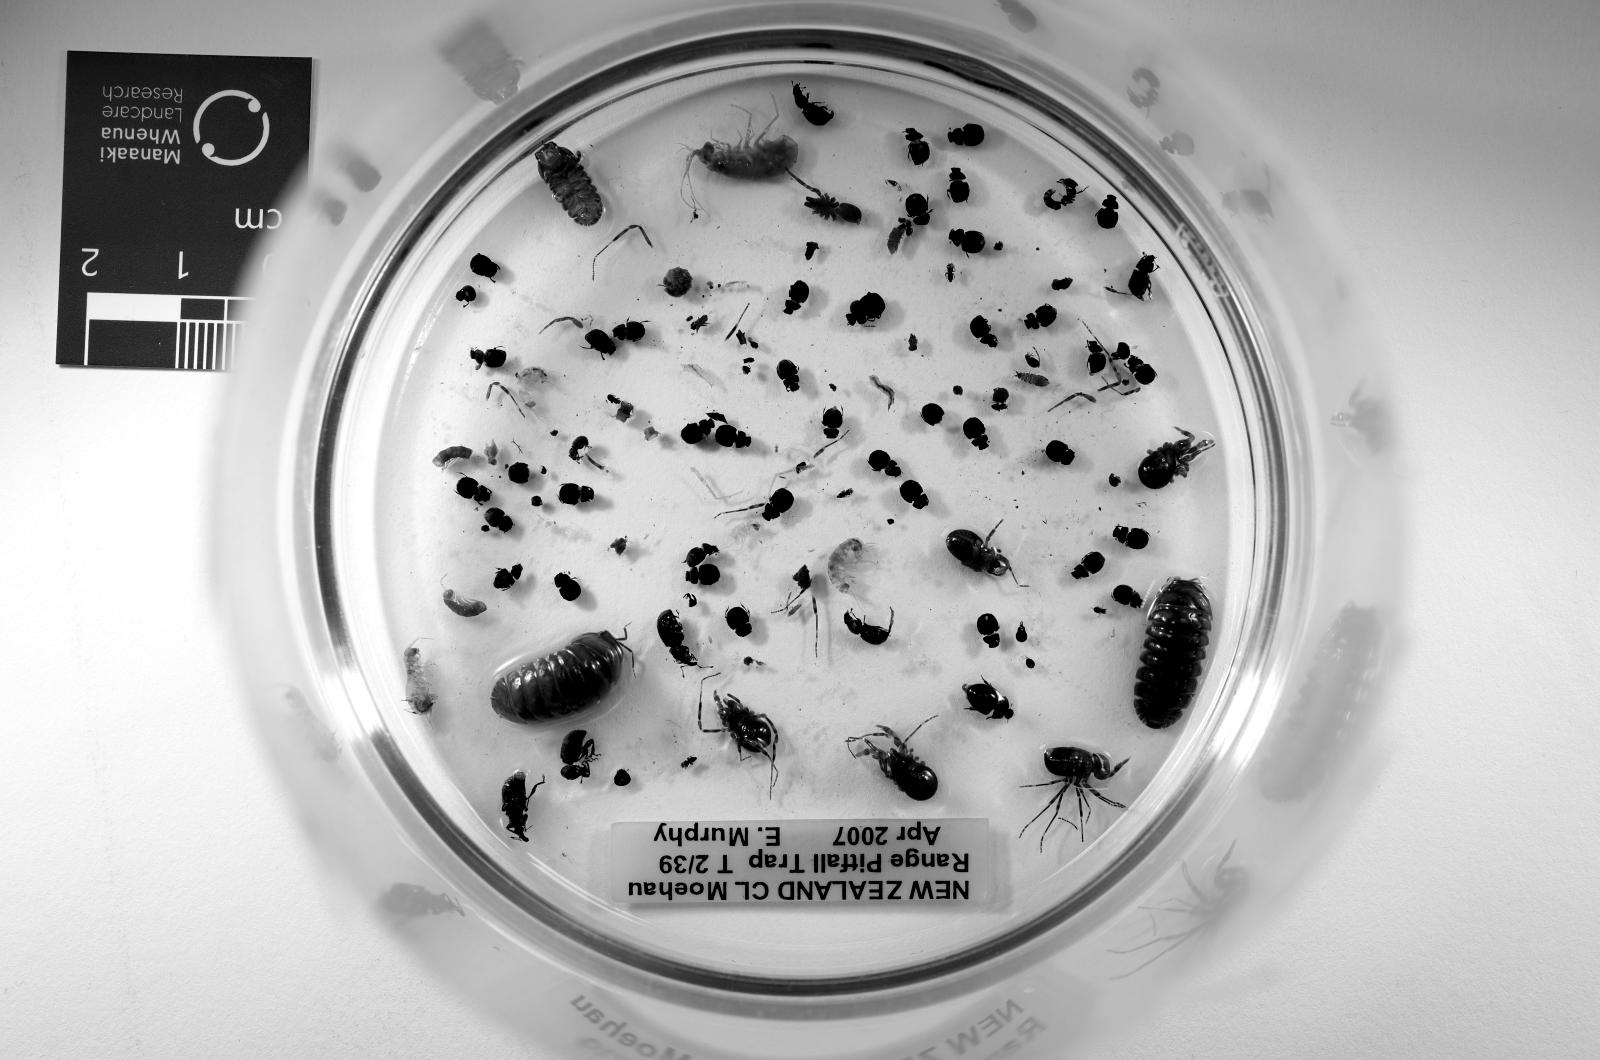acari: (1025, 351, 1041, 369)
amphipoda: (685, 109, 797, 189), (403, 642, 438, 715), (828, 537, 866, 593), (516, 367, 546, 409)
araneae: (793, 177, 862, 224)
coleoptera: (500, 770, 538, 841), (656, 608, 697, 667), (963, 680, 1012, 720), (843, 608, 894, 646), (559, 730, 597, 780), (793, 84, 835, 128), (847, 292, 885, 327), (1128, 254, 1157, 298), (456, 476, 491, 506), (903, 128, 931, 164), (974, 612, 1000, 649), (963, 416, 991, 451), (1071, 552, 1106, 581), (763, 487, 793, 518), (715, 422, 753, 447), (903, 193, 931, 227), (685, 562, 721, 587), (1113, 525, 1149, 550), (584, 329, 616, 357), (969, 317, 997, 348), (900, 478, 928, 509), (553, 571, 582, 602), (725, 606, 753, 636), (950, 230, 984, 254), (784, 279, 809, 314), (681, 419, 715, 444), (685, 543, 719, 568), (468, 348, 506, 369), (1128, 357, 1157, 386), (775, 360, 799, 392), (468, 254, 500, 279), (947, 124, 984, 146), (613, 319, 647, 342), (1025, 304, 1056, 329), (1044, 441, 1075, 466), (869, 451, 900, 476), (494, 565, 525, 590), (947, 168, 969, 202), (1097, 195, 1119, 230), (822, 407, 843, 441), (559, 485, 594, 506), (1113, 584, 1144, 608), (485, 506, 512, 531), (569, 435, 590, 463), (1088, 342, 1106, 373)
collembola: (1016, 373, 1047, 388)
diptera: (835, 487, 853, 500), (607, 394, 622, 403), (947, 264, 953, 283), (1094, 606, 1106, 615), (991, 403, 1006, 409)
formicidae: (1044, 177, 1081, 211)
isopoda: (491, 631, 628, 724), (1134, 577, 1212, 730), (535, 143, 603, 227), (662, 267, 694, 298)
opiliones: (697, 677, 778, 799), (1041, 745, 1128, 839), (847, 726, 938, 801), (1138, 428, 1212, 491), (947, 525, 1012, 577)
